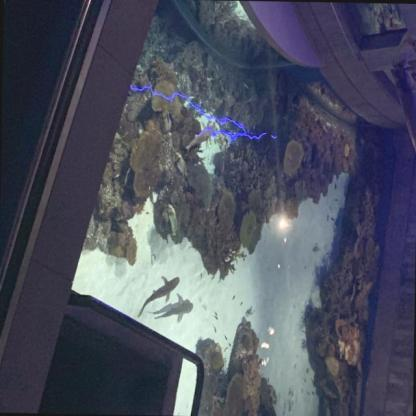fish: (166, 204, 177, 235), (174, 152, 185, 174), (164, 109, 170, 124)
shark: (137, 274, 180, 319), (155, 292, 194, 324), (186, 123, 216, 153)
